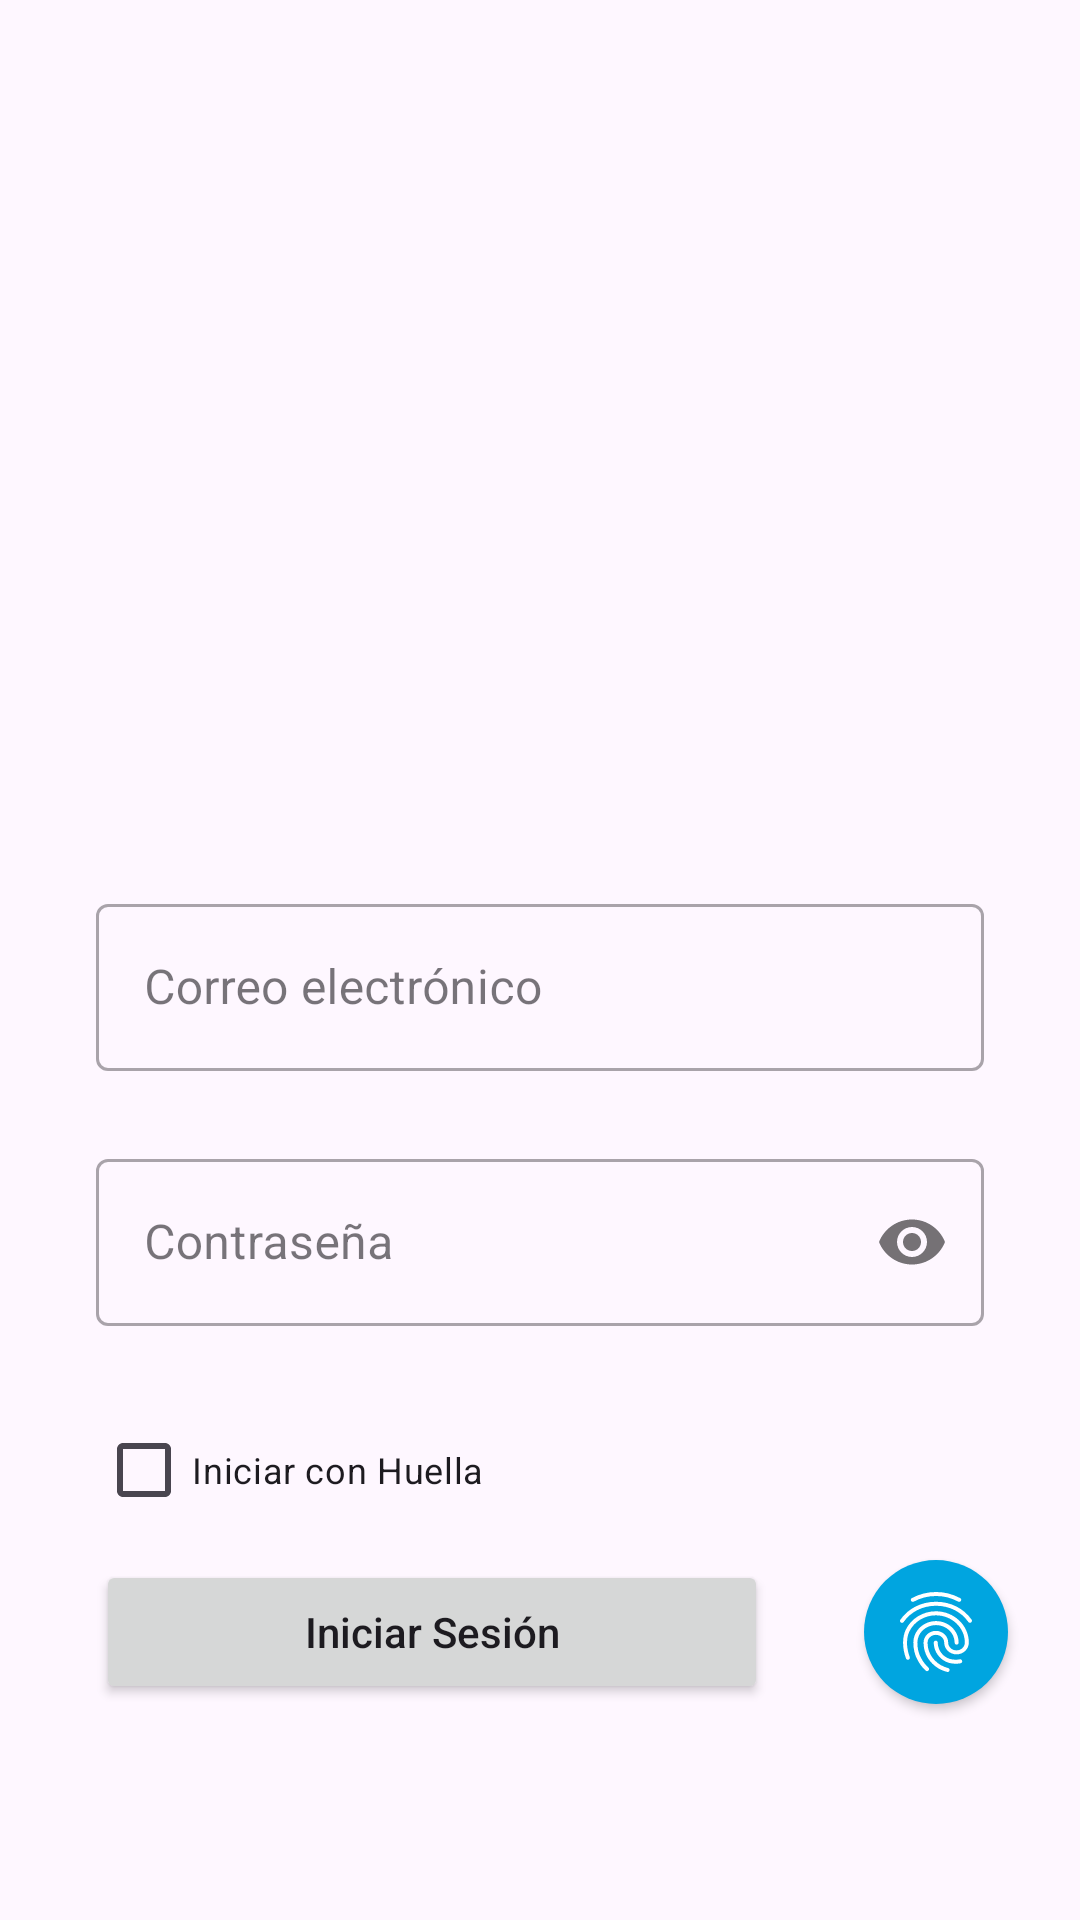

Where icons sit on this 1080 × 1920 app screen, as (x1=x1, y1=y1, x2=x2, y2=y2):
fingerprint: (x1=864, y1=1560, x2=1008, y2=1704)
